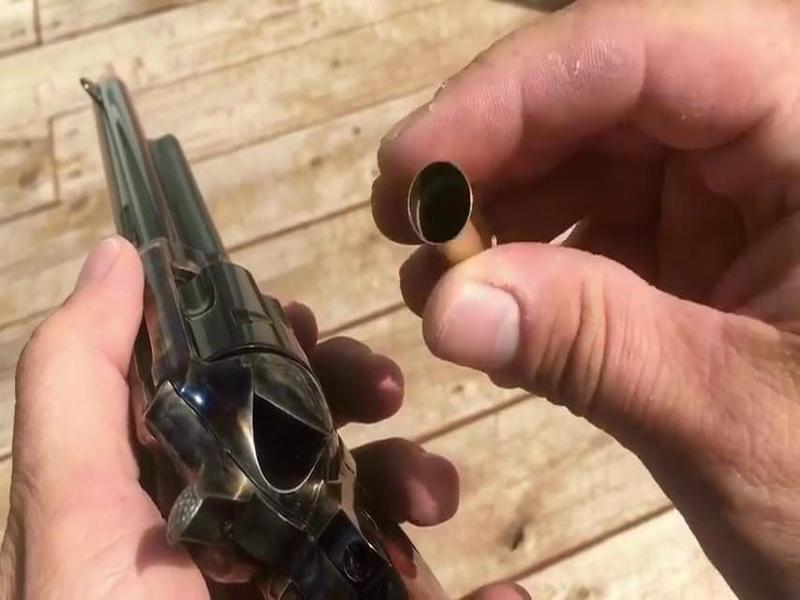Revolver: (79, 66, 369, 600)
